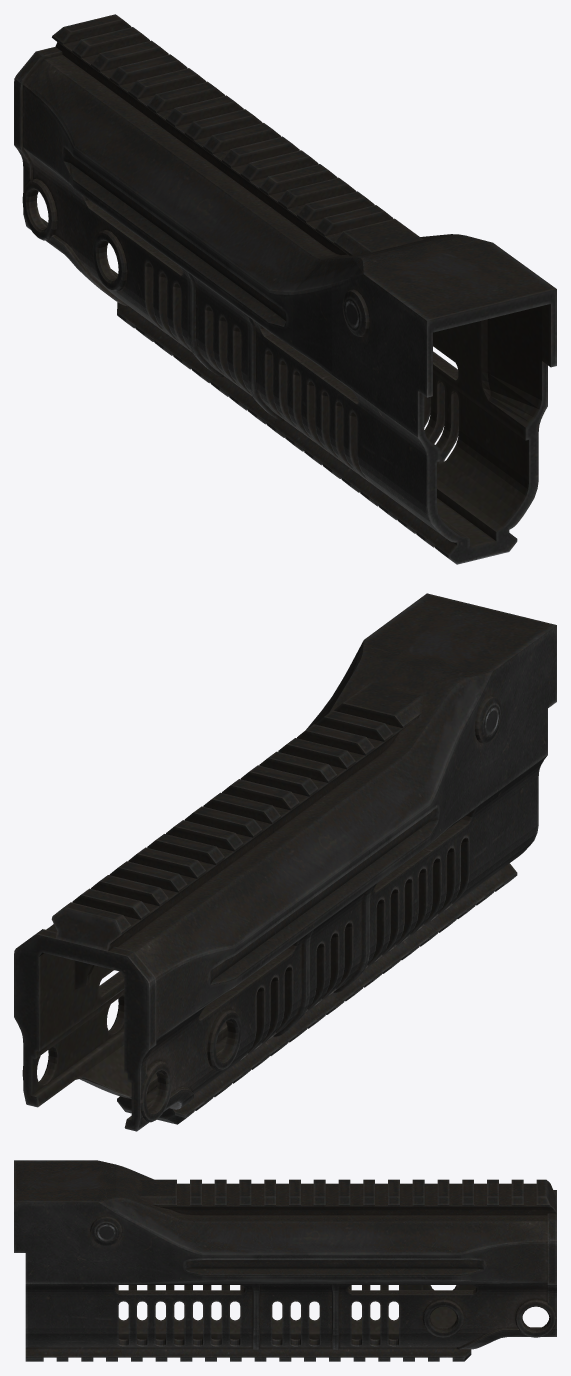
3 views of the same model, one above another, from view 1: azimuth 30°, elevation 25°; view 2: azimuth 150°, elevation 25°; view 3: azimuth 270°, elevation 25° (orthographic). The views are drawn at different scales.
Visible parts, largest first — view 1: TW_5beec3e30db8340019619424_PZ_Import; view 2: TW_5beec3e30db8340019619424_PZ_Import; view 3: TW_5beec3e30db8340019619424_PZ_Import.
Boxes of the visible parts, x1,y1,x2,y2 form: TW_5beec3e30db8340019619424_PZ_Import: [14, 14, 556, 564]; TW_5beec3e30db8340019619424_PZ_Import: [14, 593, 556, 1131]; TW_5beec3e30db8340019619424_PZ_Import: [14, 1160, 556, 1361].
Bounding box in the file's own units: 0.0289 × 0.1268 × 0.0443.
1 material, 1 textured.
